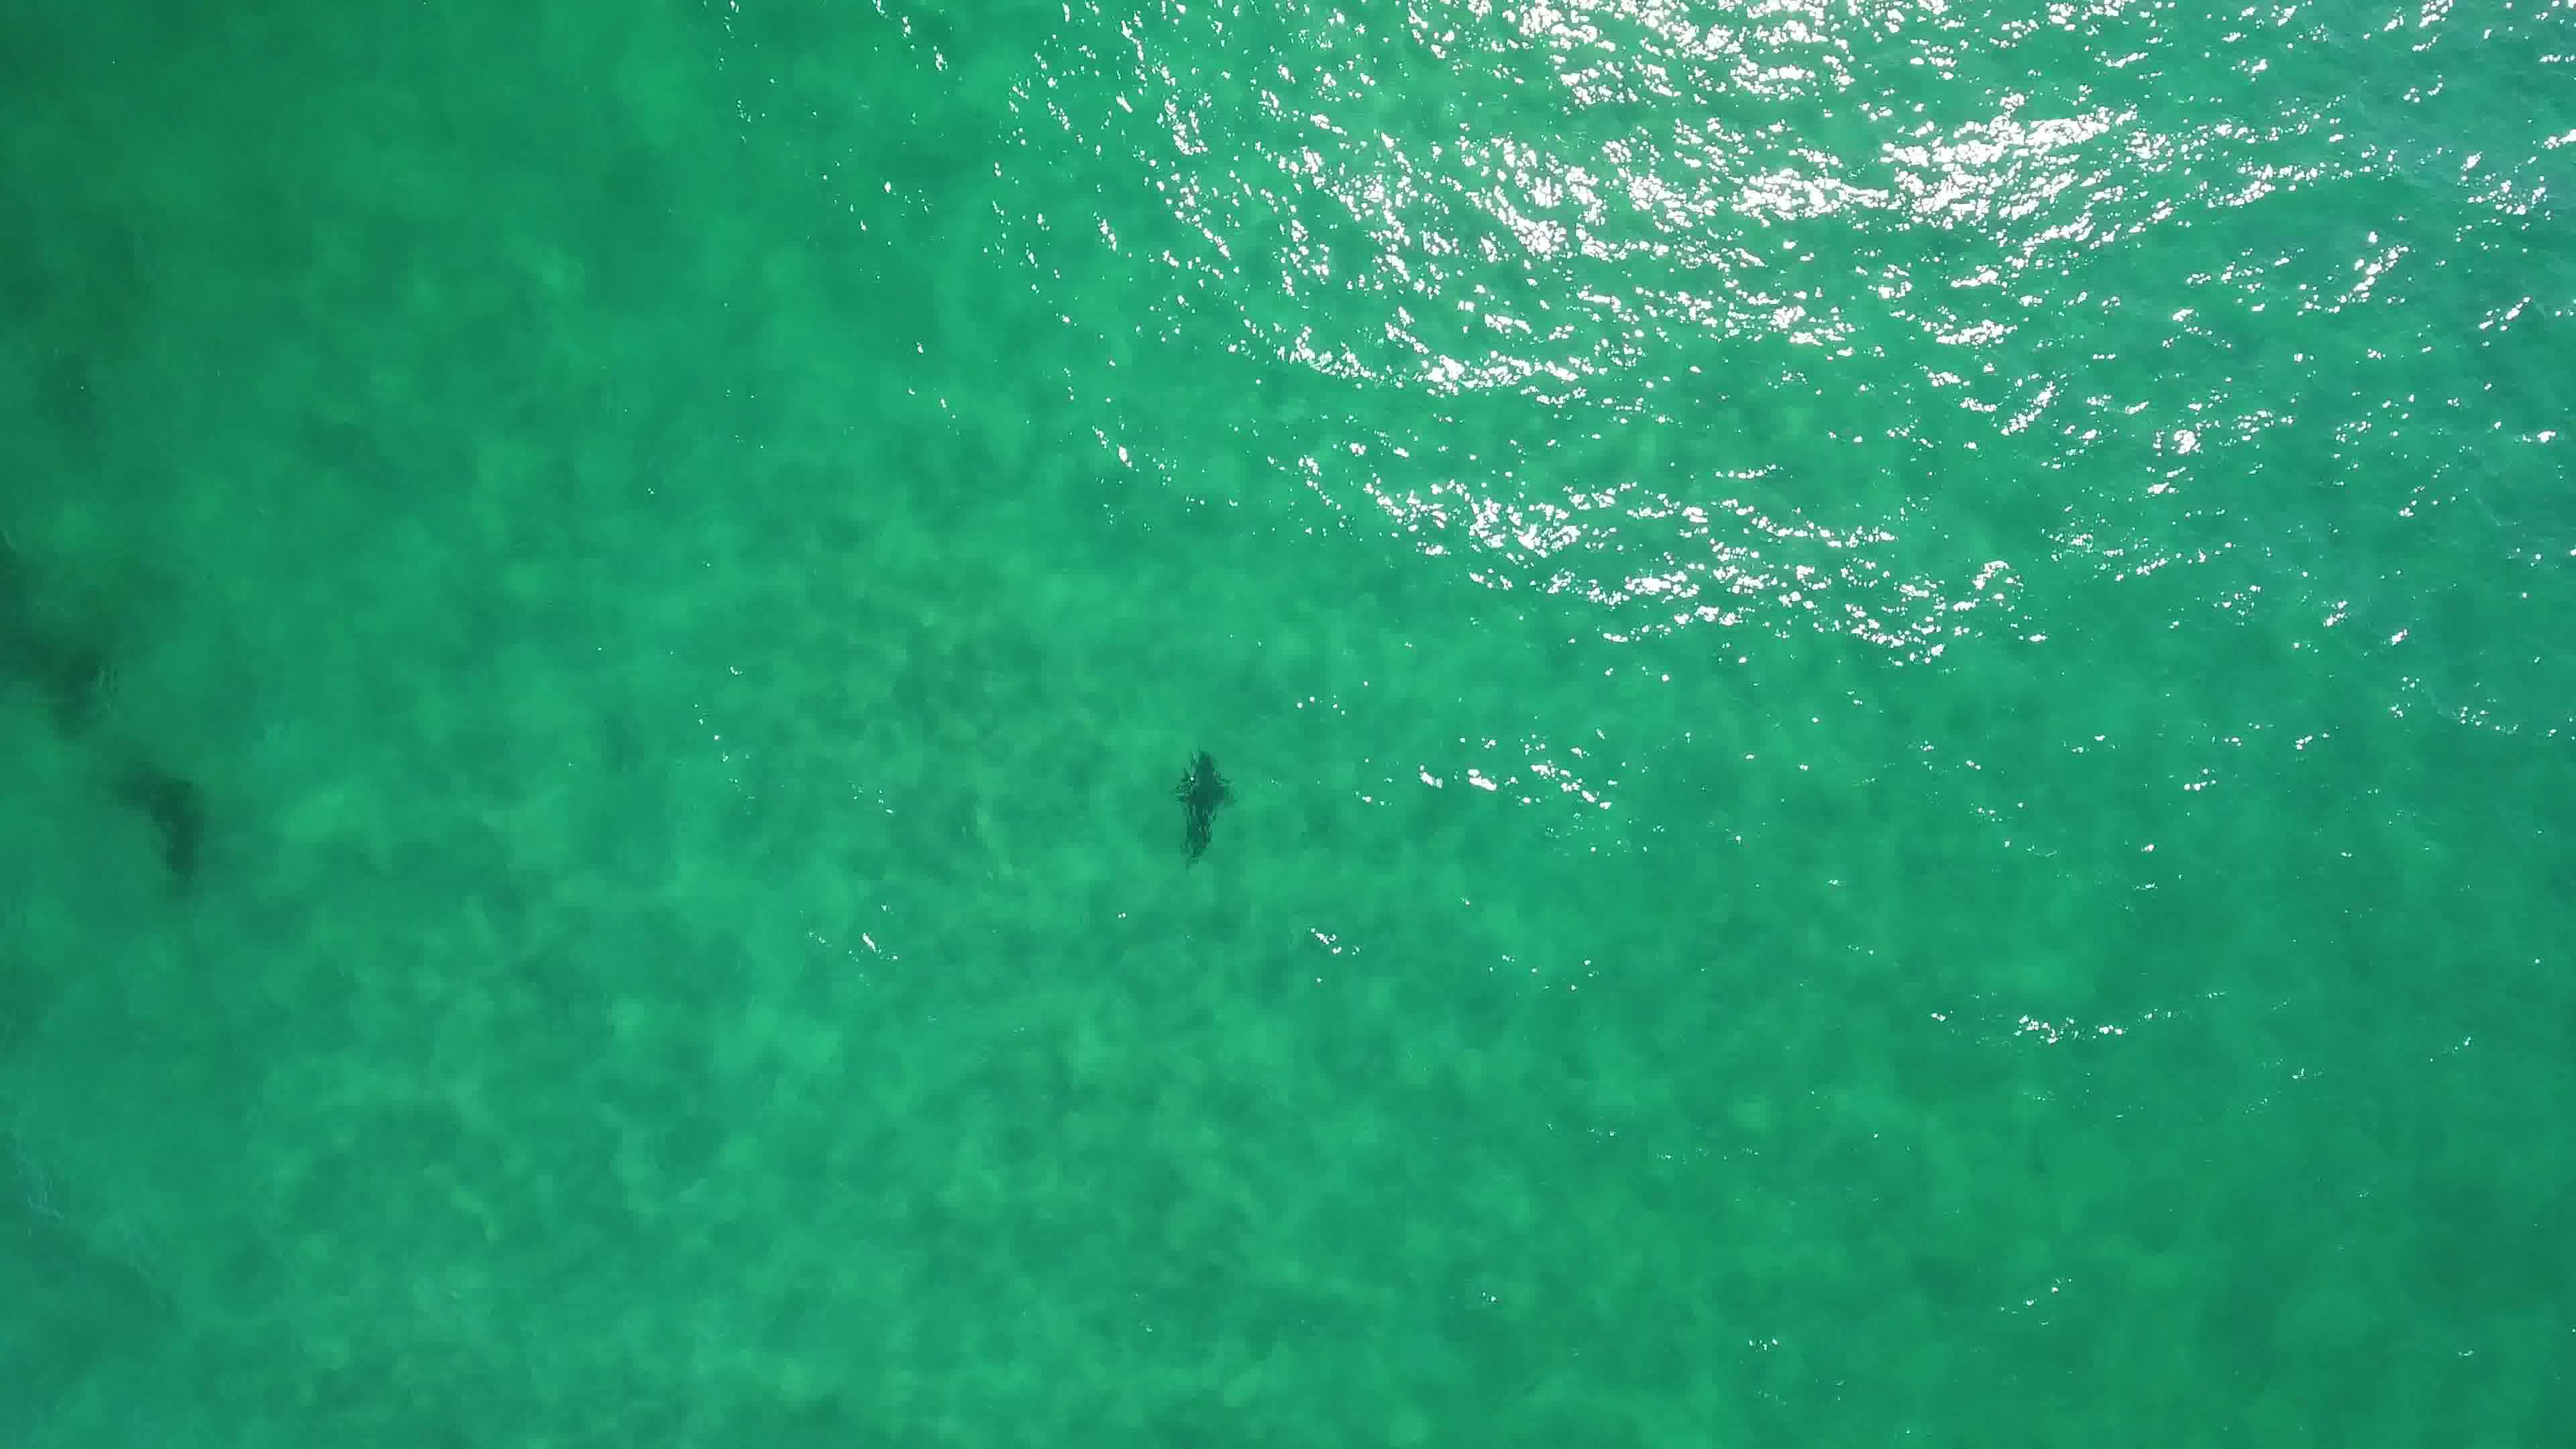shark: (1168, 747, 1244, 872)
